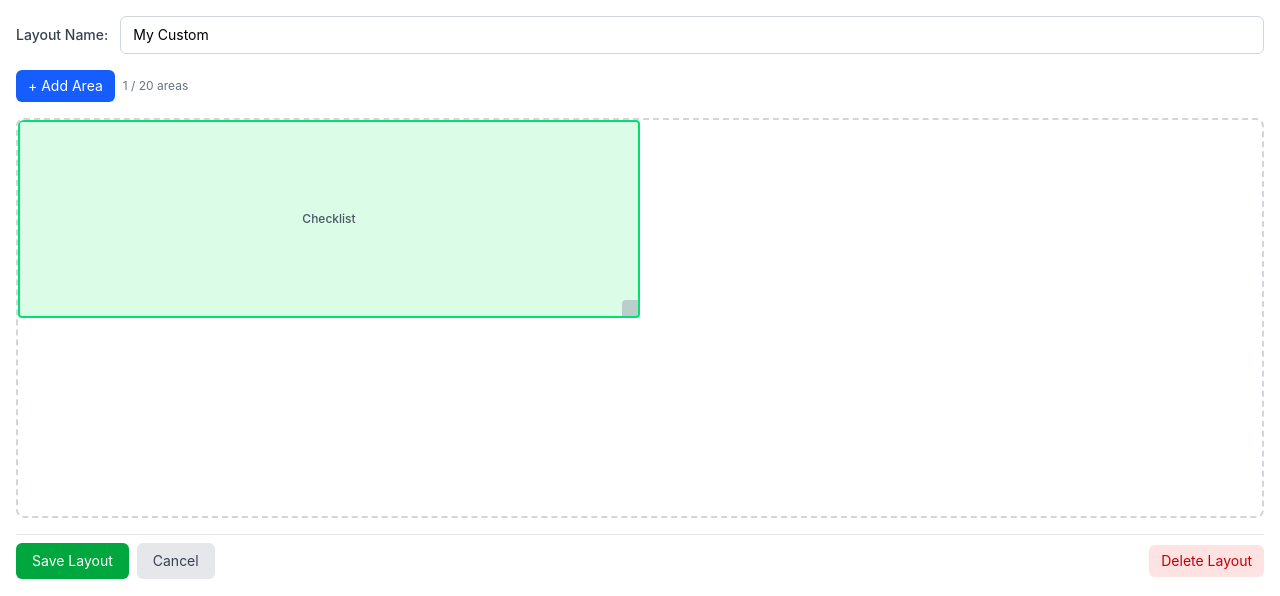
Test: LayoutEditor › Delete with Confirmation › shows confirmation dialog when clicking delete
Click the button labelled "Delete Layout": x=1207, y=561 [1149,545,1264,577]
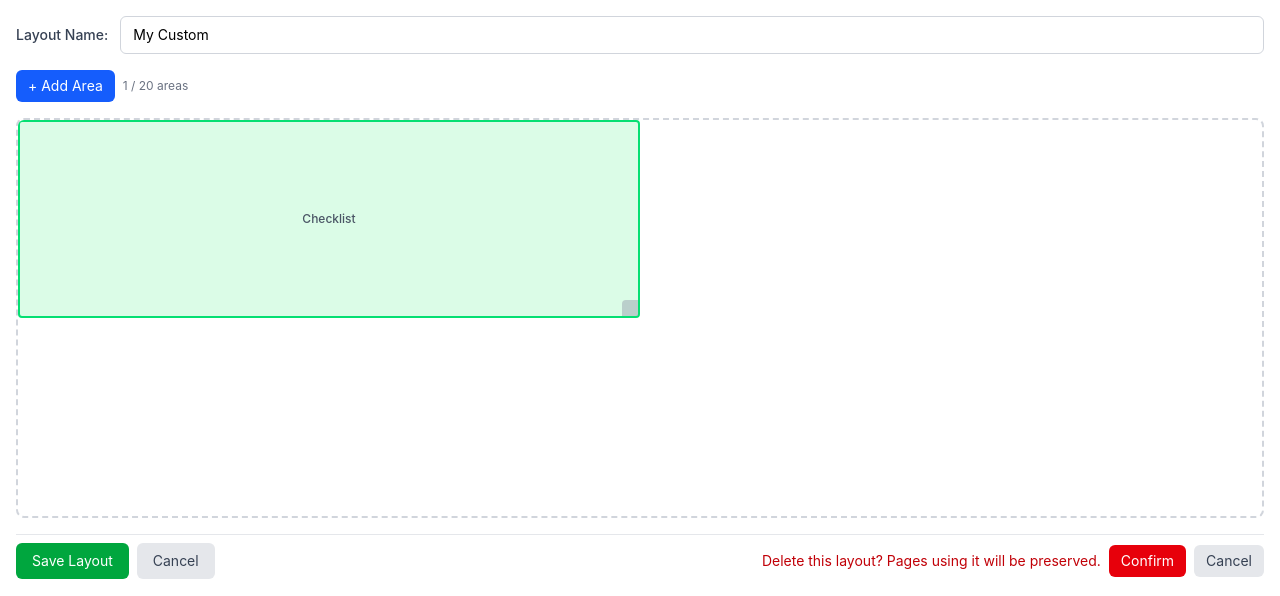
Check: the text "Delete this layout? Pages using it will be preserved." is shown, box [762,551,1101,571]
